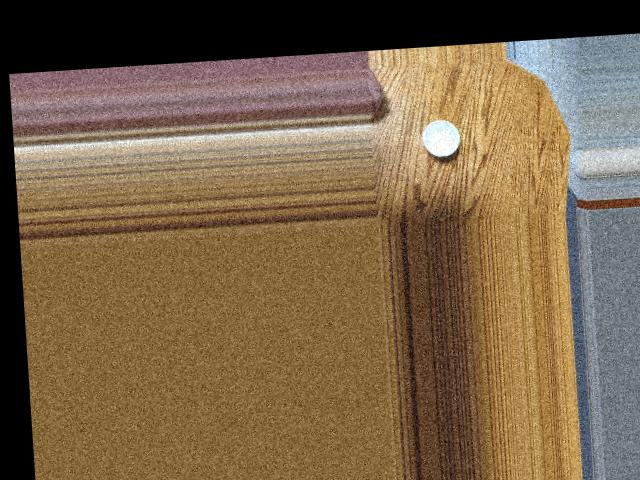cotage: (416, 116, 464, 157)
